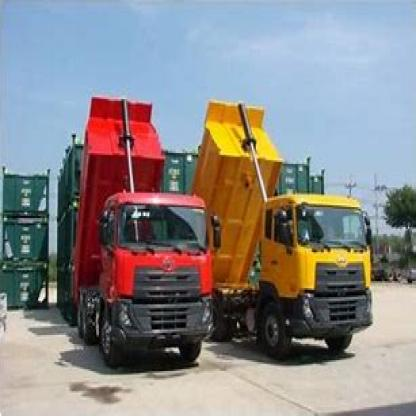dump_truck: (209, 85, 378, 371), (63, 81, 212, 394)
